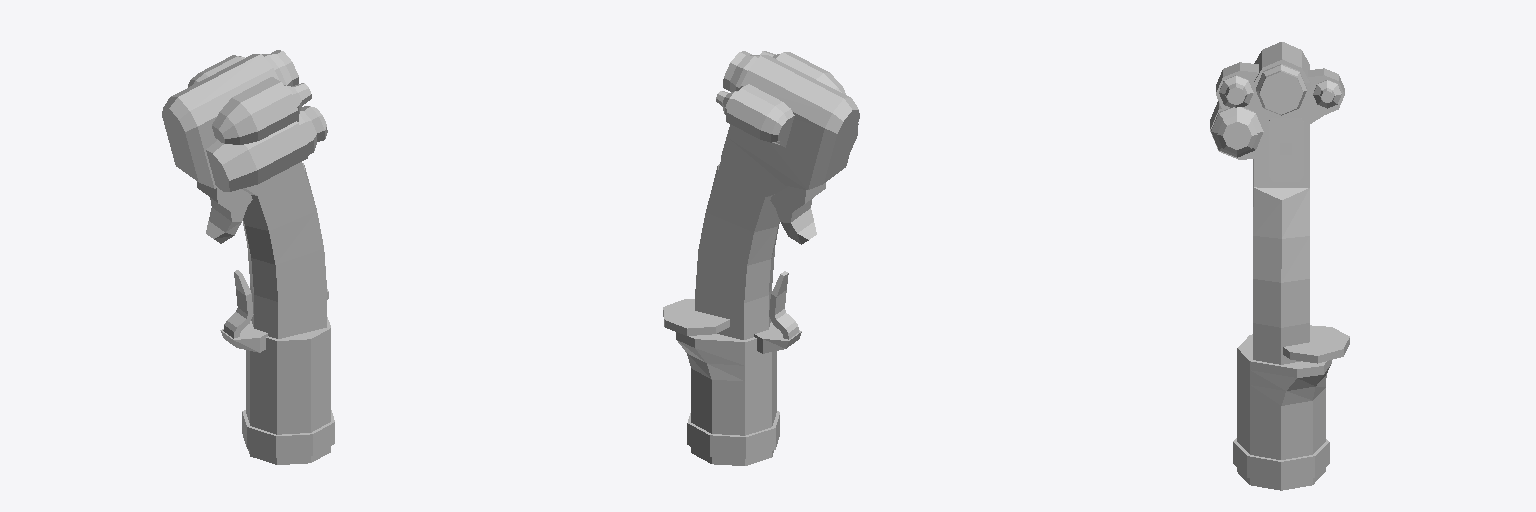
Rendered from stick.obj.
3 views of the same model, side by side, from view 1: azimuth 30°, elevation 25°; view 2: azimuth 150°, elevation 25°; view 3: azimuth 270°, elevation 25° (orthographic).
Parts seen in each view (by area): view 1: Circle; view 2: Circle; view 3: Circle.
Boxes of the visible parts, x1,y1,x2,y2 form: Circle: [162, 50, 334, 464]; Circle: [663, 51, 859, 465]; Circle: [1210, 42, 1349, 490].
Size of the model in its own units: 1.2 by 2.66 by 0.8453.